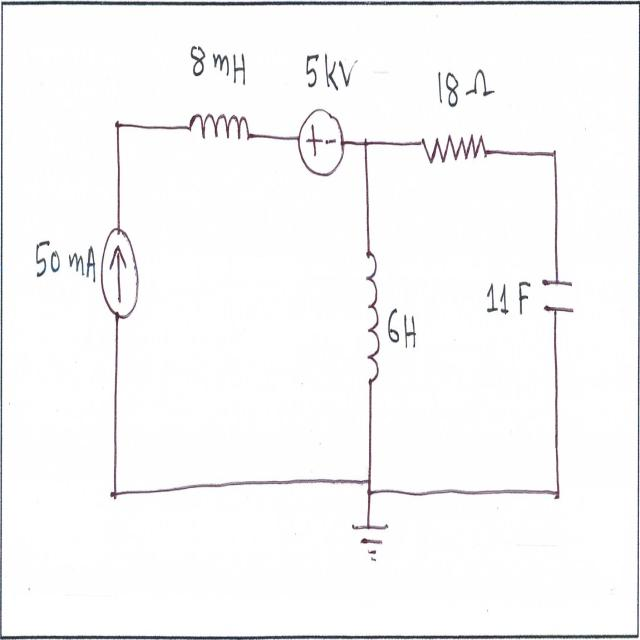capacitor: (534, 270, 578, 326)
current_source: (98, 212, 142, 328)
ground: (349, 517, 392, 576)
inductor: (360, 241, 385, 394), (184, 105, 256, 153)
resistor: (414, 130, 493, 171)
voltage_source: (291, 106, 349, 186)
